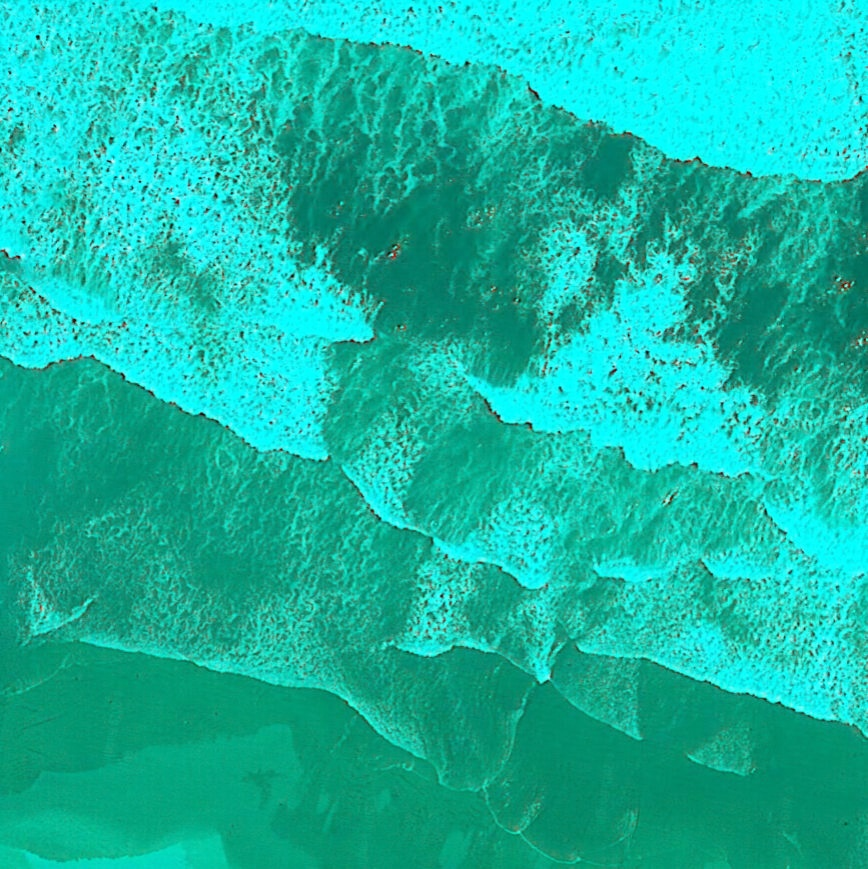rip_current: (246, 105, 591, 628)
